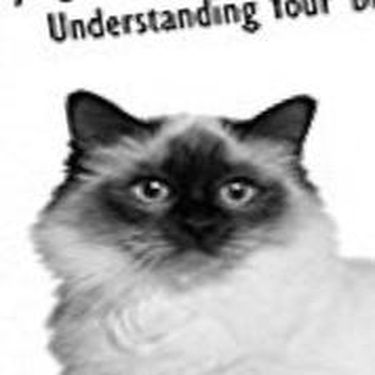cat: (63, 90, 325, 347)
